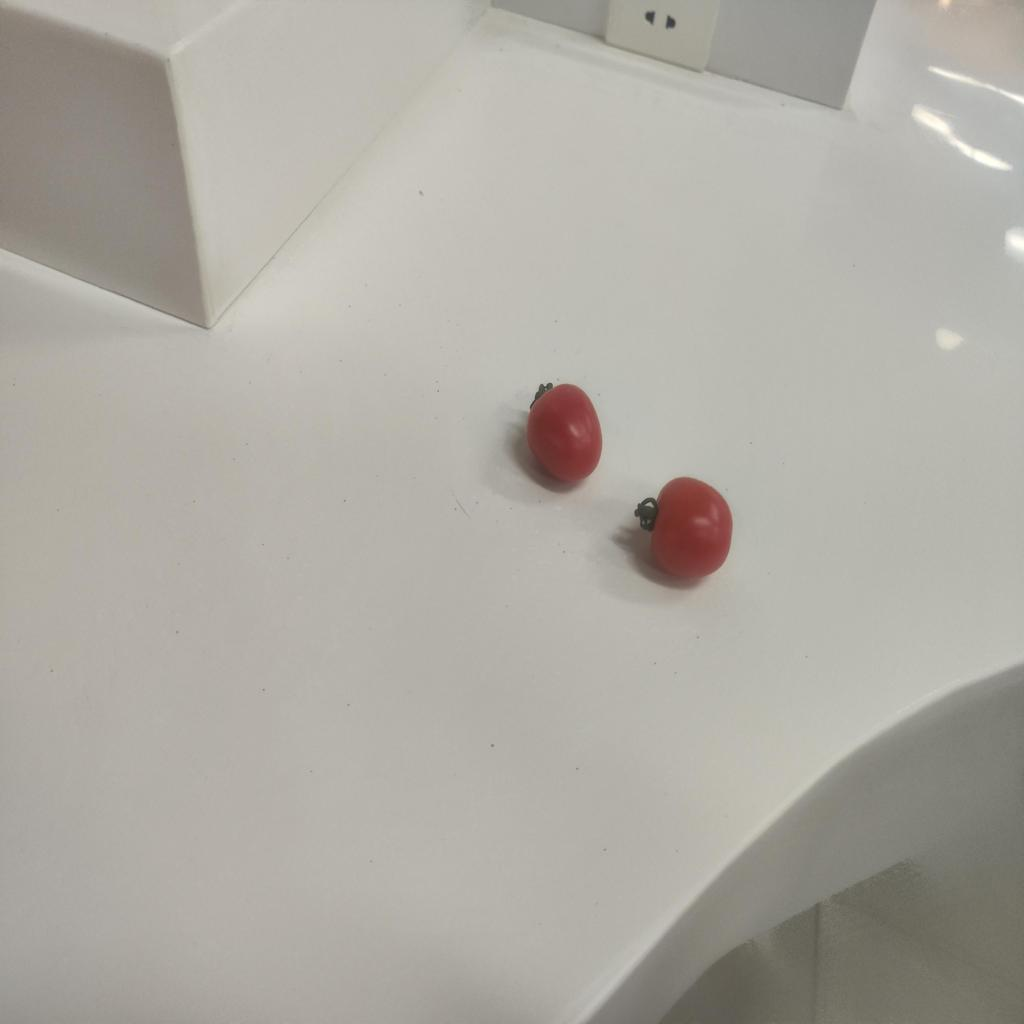tomato: (647, 475, 742, 587), (524, 374, 602, 483)
